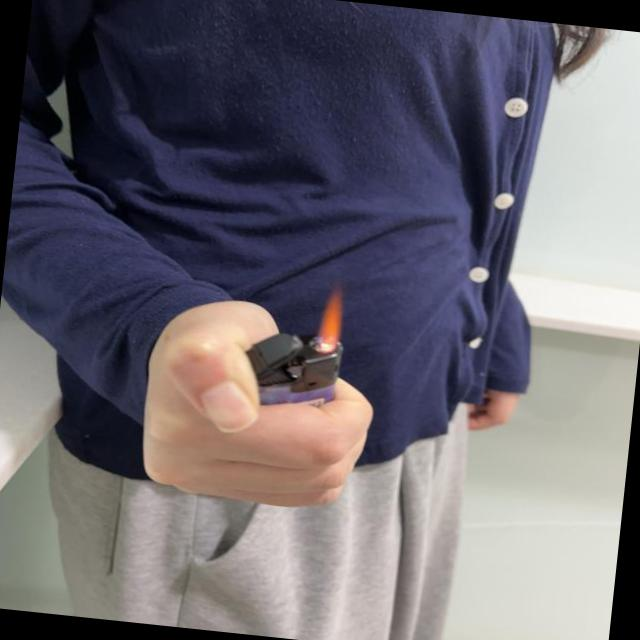Fire: (316, 284, 349, 354)
